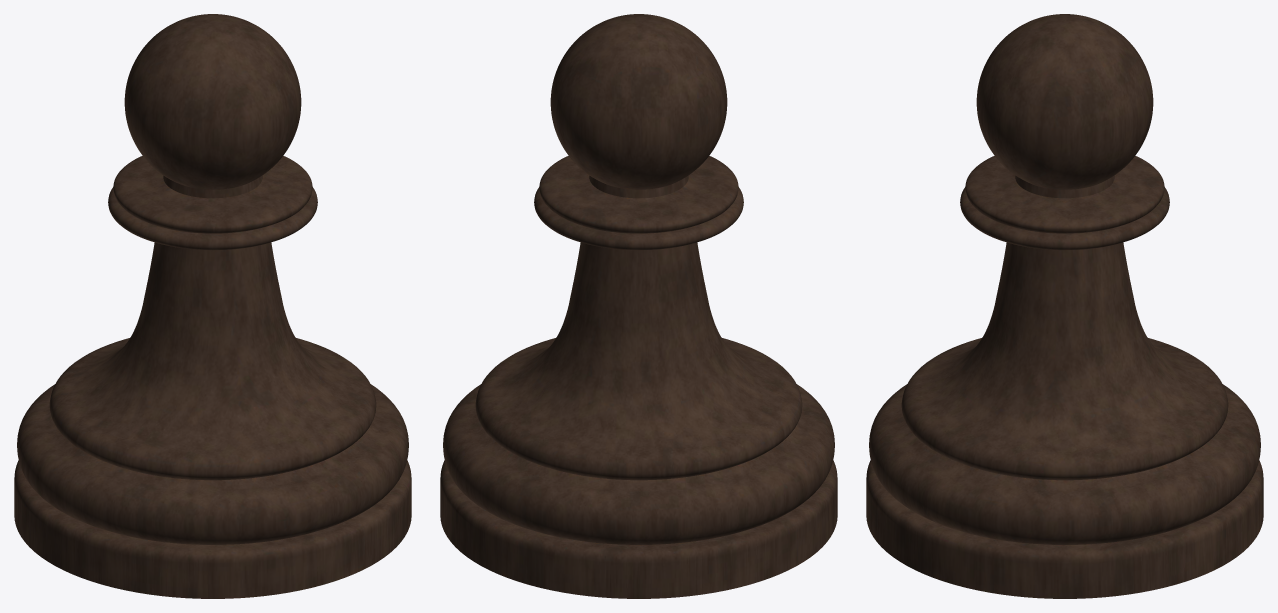
File: bauer_schwarz.glb
The picture shows the model from 3 angles, left to right: view 1: azimuth 30°, elevation 25°; view 2: azimuth 150°, elevation 25°; view 3: azimuth 270°, elevation 25°; orthographic projection.
Parts seen in each view (by area): view 1: bauer_schwarz; view 2: bauer_schwarz; view 3: bauer_schwarz.
Part boxes in pixels (x1,y1,x2,y2): bauer_schwarz: [14, 14, 411, 598]; bauer_schwarz: [440, 14, 837, 598]; bauer_schwarz: [866, 14, 1263, 598].
Size of the model in its own units: 0.72 by 0.985 by 0.72.
Materials: 1 (1 with a texture image).
